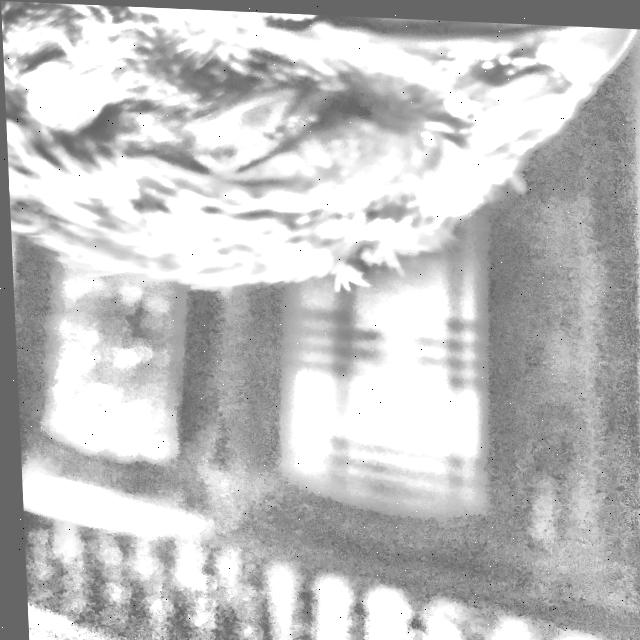Coryza: (0, 0, 640, 318)
